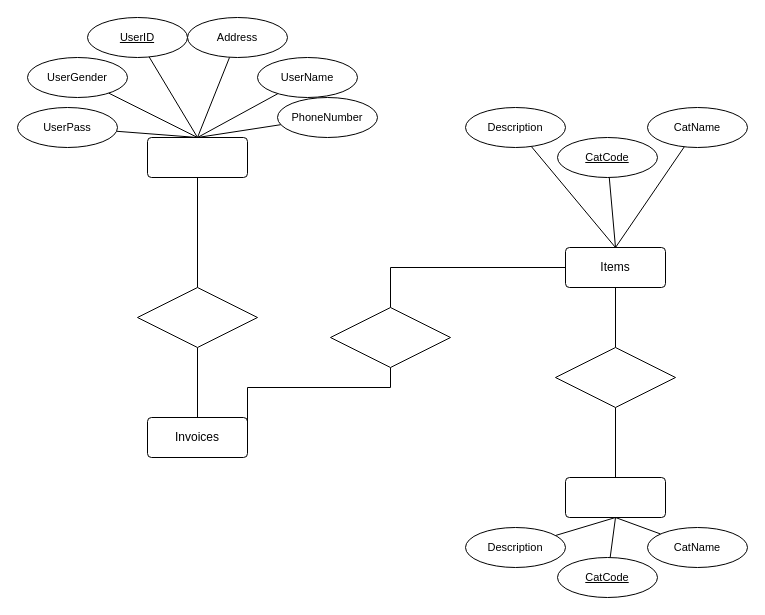
Image size: 765x615. Some labels were removed from this diagram. Here are the shapes that lost their labels. From the top down, the box of each, then its label:
(146, 136, 248, 178): Users
(136, 286, 258, 348): Ordered
(330, 306, 450, 368): Consists of
(554, 346, 676, 408): Contains
(564, 476, 666, 518): Categories
